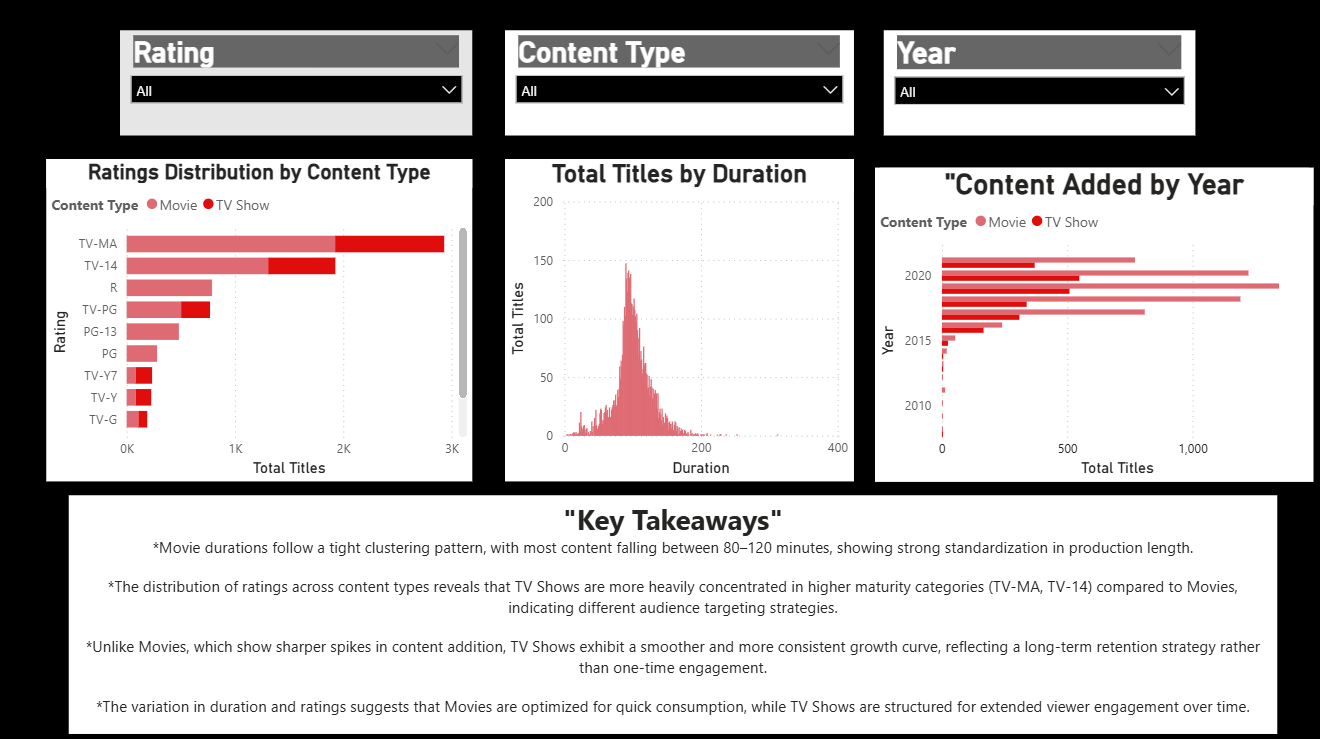

The page's visual inventory and layout, read from the dashboard file:
{"tool":"powerbi","page":{"name":"Page 2","canvas":[1280,720],"ordinal":1},"visuals":[{"type":"barChart","title":"Ratings Distribution by Content Type","fields":{"Category":["netflix_cleaned.rating"],"Y":["CountNonNull(netflix_cleaned.show_id)"],"Series":["netflix_cleaned.type"]},"box":[44.6,154.4,411.4,311.3],"z":0},{"type":"textbox","box":[65.9,478.9,1166.4,230.5],"z":1000},{"type":"slicer","fields":{"Values":["netflix_cleaned.type"]},"box":[487.4,30.2,336.6,101.3],"z":2000},{"type":"slicer","fields":{"Values":["netflix_cleaned.year_added"]},"box":[853,30.2,300.4,101.3],"z":3000},{"type":"slicer","fields":{"Values":["netflix_cleaned.rating"]},"box":[115.8,30.2,340.2,101.3],"z":4000},{"type":"clusteredBarChart","title":"\"Content Added by Year","fields":{"Category":["netflix_cleaned.year_added"],"Y":["CountNonNull(netflix_cleaned.show_id)"],"Series":["netflix_cleaned.type"]},"box":[844.5,162.9,423.5,302.8],"z":5000},{"type":"columnChart","fields":{"Y":["CountNonNull(netflix_cleaned.show_id)"],"Category":["netflix_cleaned.duration_int"]},"box":[487,154,337,311],"z":6000}]}

Visuals, with their boxes in screenshot pixels (x1, y1, x2, y2), scaled from the page's 1280x720 canvas onto the 1320x739 screenshot:
"Ratings Distribution by Content Type" barChart: {"x1": 46, "y1": 158, "x2": 470, "y2": 478}
textbox: {"x1": 68, "y1": 492, "x2": 1271, "y2": 728}
slicer - netflix_cleaned.type: {"x1": 503, "y1": 31, "x2": 850, "y2": 135}
slicer - netflix_cleaned.year_added: {"x1": 880, "y1": 31, "x2": 1189, "y2": 135}
slicer - netflix_cleaned.rating: {"x1": 119, "y1": 31, "x2": 470, "y2": 135}
""Content Added by Year" clusteredBarChart: {"x1": 871, "y1": 167, "x2": 1308, "y2": 478}
columnChart - CountNonNull(netflix_cleaned.show_id) x netflix_cleaned.duration_int: {"x1": 502, "y1": 158, "x2": 850, "y2": 477}
